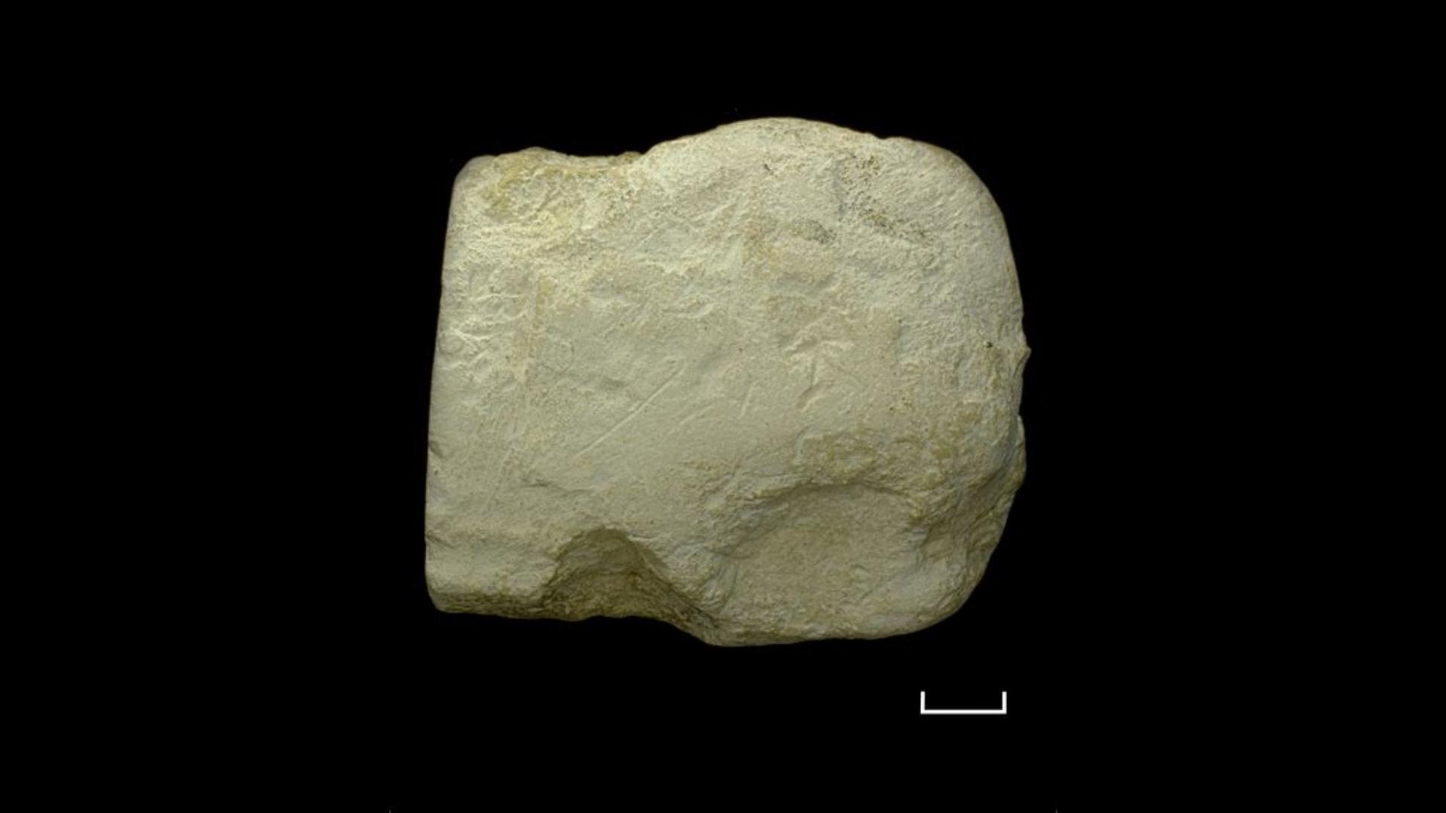rock: (425, 118, 1027, 643)
